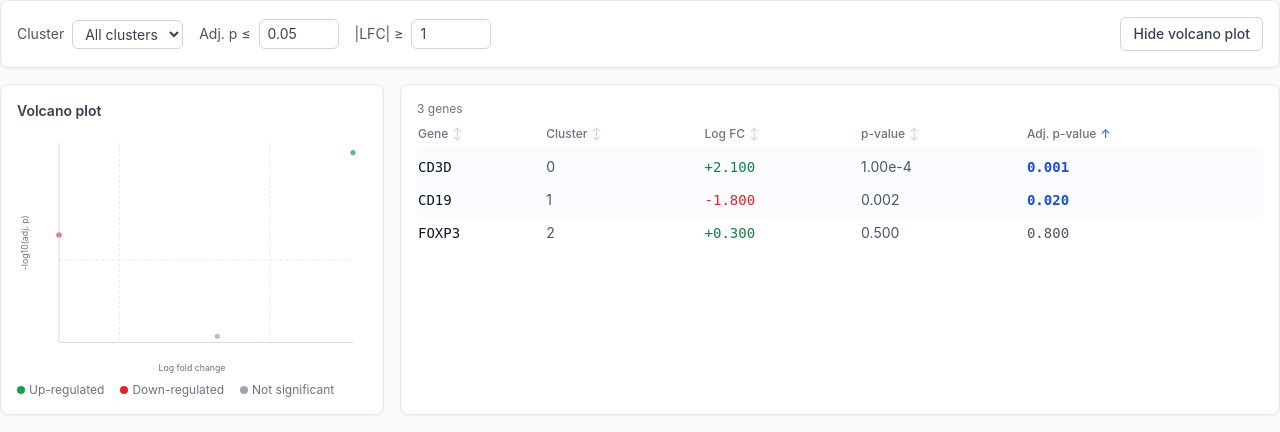
Test case: DEViewer › filters by cluster
The image size is (1280, 432).
Step 1. Select "0" in the dropdown with test id "cluster-filter" → (128,34), box [72,20,183,48]
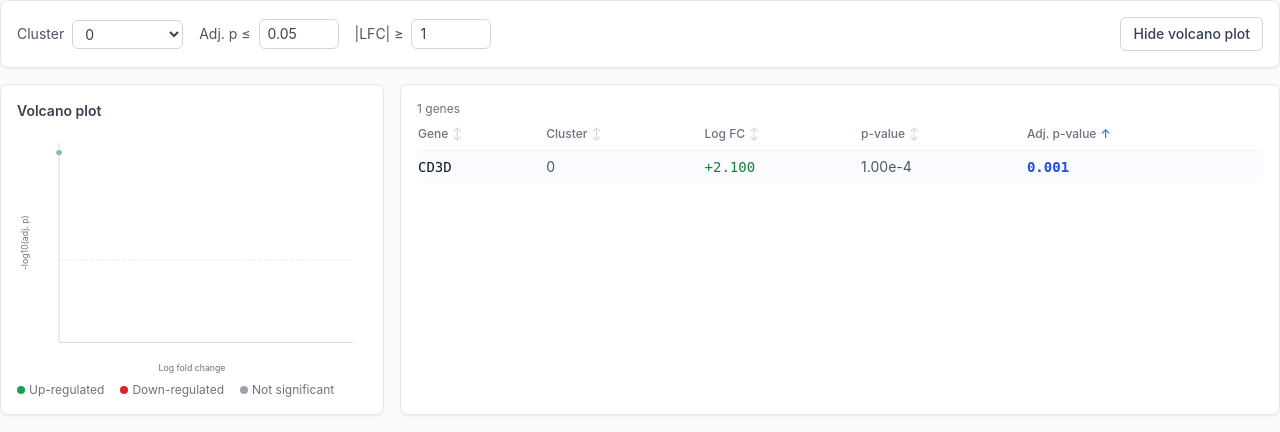
Expected: the text "CD3D" is shown, [417,150,545,183]
Result: the text "CD19" is gone
